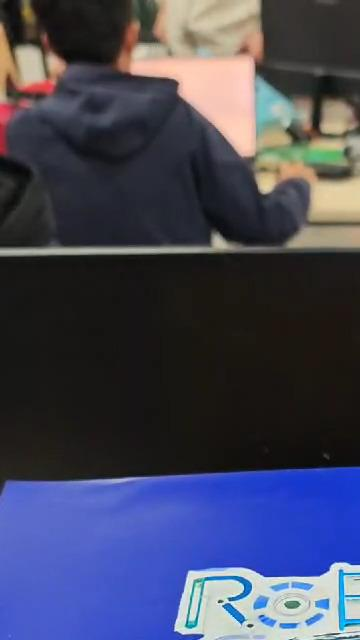B_R1: (15, 551, 360, 640)
